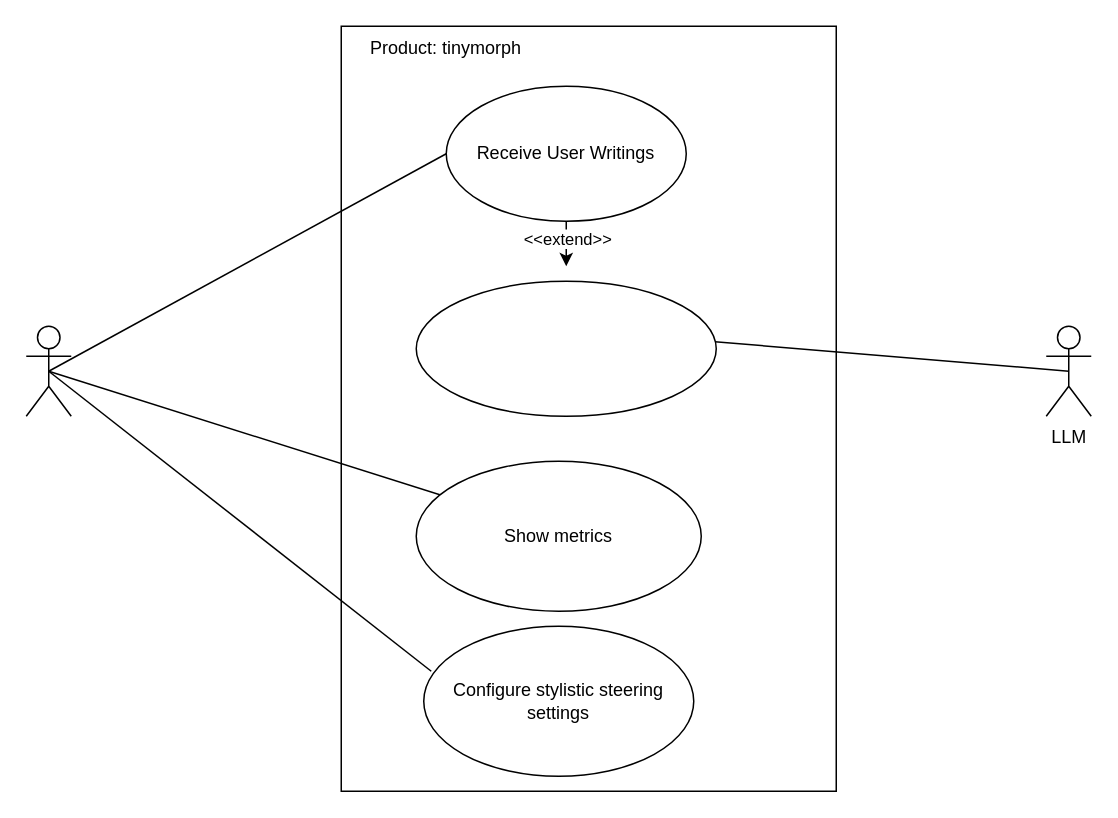
This 1118x818 diagram has some shape labels left out. The centre of each missing label's shape, as x and y in pixels:
"Generate Suggestions and planning steps" belongs at point 565,348.
"User" belongs at point 48,370.
